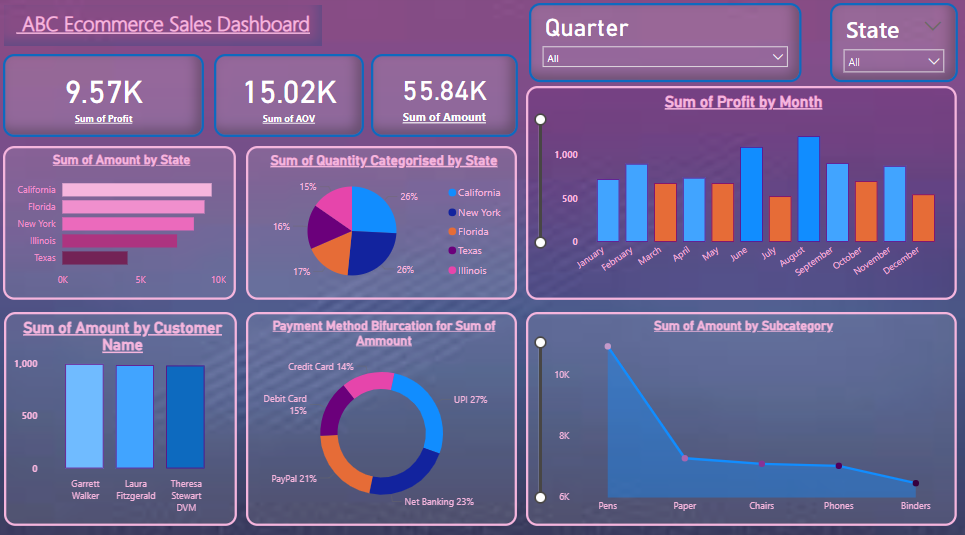

The page's visual inventory and layout, read from the dashboard file:
{"tool":"powerbi","page":{"name":"Page 1","canvas":[1280,720],"ordinal":0},"visuals":[{"type":"textbox","box":[10.1,13.4,418.3,53.8],"z":0},{"type":"columnChart","fields":{"Y":["Order_Details.Profit"],"Category":["Order_Info.Order Date.Variation.Date Hierarchy.Month"]},"box":[696.4,119.7,565.7,280.8],"z":1000},{"type":"stackedAreaChart","fields":{"Category":["Order_Details.Subcategory"],"Y":["Order_Details.Amount"]},"box":[696.4,417,565.7,280.8],"z":2000},{"type":"donutChart","title":"Payment Method Bifurcation for Sum of Ammount","fields":{"Y":["Order_Details.Amount"],"Category":["Order_Details.Payment Method"]},"box":[328.9,417,356.5,280.8],"z":3000},{"type":"pieChart","title":"Sum of Quantity Categorised by State","fields":{"Category":["Order_Info.State"],"Y":["Order_Details.Quantity"]},"box":[328.9,198.2,356.5,202.3],"z":4000},{"type":"card","fields":{"Values":["Order_Details.Profit"]},"box":[9.6,77.1,264.3,108.7],"z":5000},{"type":"card","fields":{"Values":["Order_Details.Amount"]},"box":[492.7,77.1,192.7,108.7],"z":6000},{"type":"card","fields":{"Values":["Order_Details.AOV"]},"box":[286.3,77.1,196.8,108.7],"z":7000},{"type":"barChart","fields":{"Y":["Order_Details.Amount"],"Category":["Order_Info.State"]},"box":[9.6,198.2,305.5,202.3],"z":8000},{"type":"columnChart","fields":{"Category":["Order_Info.Customer Name"],"Y":["Order_Details.Amount"]},"box":[10.1,416.6,305.7,280.5],"z":9000},{"type":"slicer","fields":{"Values":["Order_Info.Order Date.Variation.Date Hierarchy.Quarter"]},"box":[700.5,10.1,357.8,104.1],"z":10000},{"type":"slicer","fields":{"Values":["Order_Info.State"]},"box":[1095.2,10.1,168,104.1],"z":11000}]}

Visuals, with their boxes in screenshot pixels (x1, y1, x2, y2), scaled from the page's 1280x720 canvas onto the 965x535 screenshot:
textbox: 8,10,323,50
columnChart - Order_Details.Profit x Order_Info.Order Date.Variation.Date Hierarchy.Month: 525,89,952,298
stackedAreaChart - Order_Details.Subcategory x Order_Details.Amount: 525,310,952,519
"Payment Method Bifurcation for Sum of Ammount" donutChart: 248,310,517,519
"Sum of Quantity Categorised by State" pieChart: 248,147,517,298
card - Order_Details.Profit: 7,57,206,138
card - Order_Details.Amount: 371,57,517,138
card - Order_Details.AOV: 216,57,364,138
barChart - Order_Details.Amount x Order_Info.State: 7,147,238,298
columnChart - Order_Info.Customer Name x Order_Details.Amount: 8,310,238,518
slicer - Order_Info.Order Date.Variation.Date Hierarchy.Quarter: 528,8,798,85
slicer - Order_Info.State: 826,8,952,85
